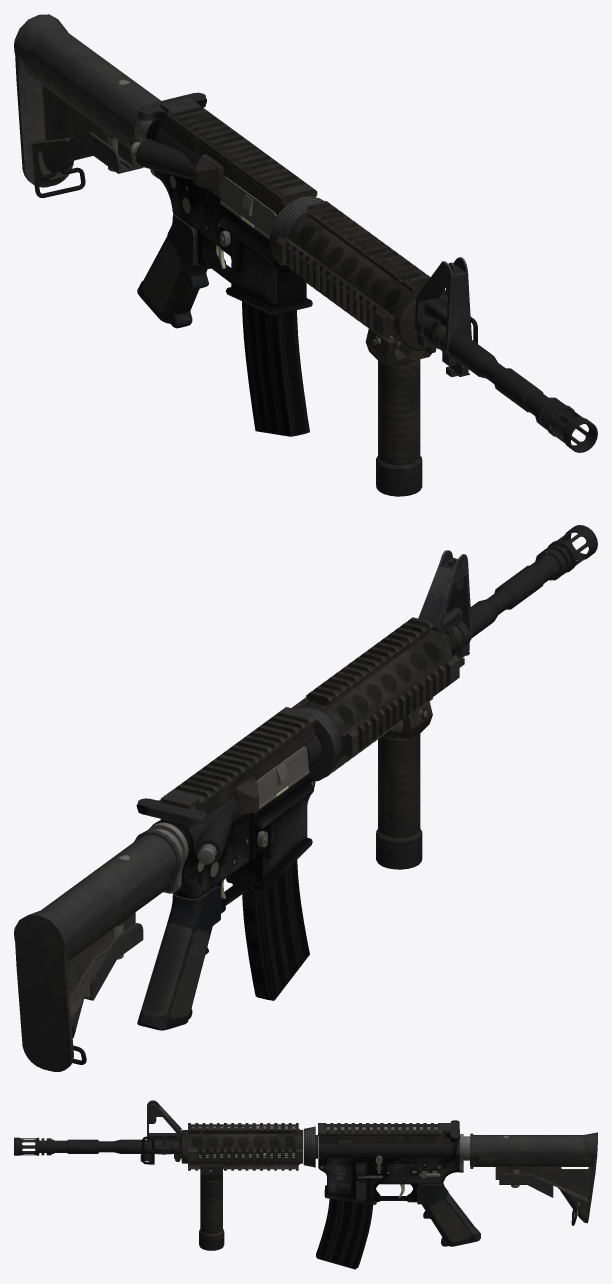
3 renders of one model, top to bottom at view 1: azimuth 30°, elevation 25°; view 2: azimuth 150°, elevation 25°; view 3: azimuth 270°, elevation 25°, orthographic. The views are drawn at different scales.
Parts seen in each view (by area): view 1: Weapon_M4_Carbine, Weapon_M4_Carbine_Stock, Weapon_M4_Carbine_SideFlap, Weapon_M4_Carbine_Reload; view 2: Weapon_M4_Carbine, Weapon_M4_Carbine_Stock, Weapon_M4_Carbine_SideFlap, Weapon_M4_Carbine_Reload; view 3: Weapon_M4_Carbine, Weapon_M4_Carbine_Stock.
Part boxes in pixels (x1,y1,x2,y2): Weapon_M4_Carbine: (14,14,597,496); Weapon_M4_Carbine_Stock: (242,301,309,436); Weapon_M4_Carbine_SideFlap: (220,176,276,239); Weapon_M4_Carbine_Reload: (138,92,206,121); Weapon_M4_Carbine: (14,525,597,1071); Weapon_M4_Carbine_Stock: (242,860,309,1000); Weapon_M4_Carbine_SideFlap: (253,746,309,813); Weapon_M4_Carbine_Reload: (136,798,205,827); Weapon_M4_Carbine: (14,1100,597,1250); Weapon_M4_Carbine_Stock: (316,1198,373,1269).
Size of the model in its own units: 7.37 by 26.46 by 85.07.
Materials: 1 (1 with a texture image).
